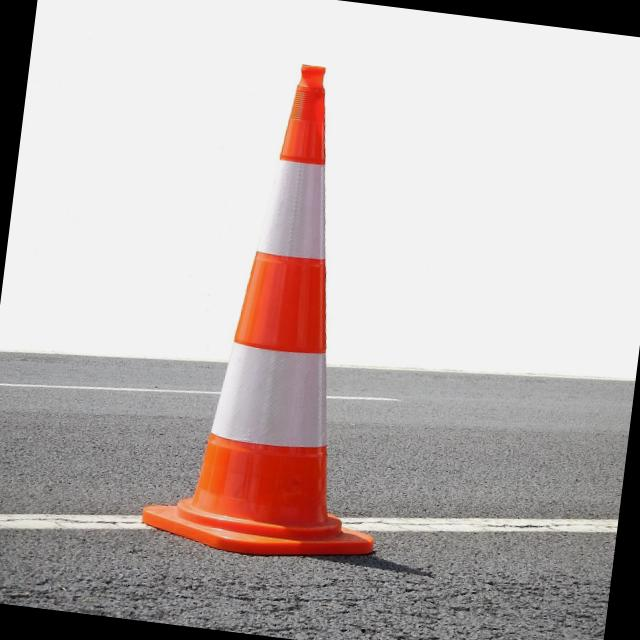cone: (126, 44, 434, 572)
